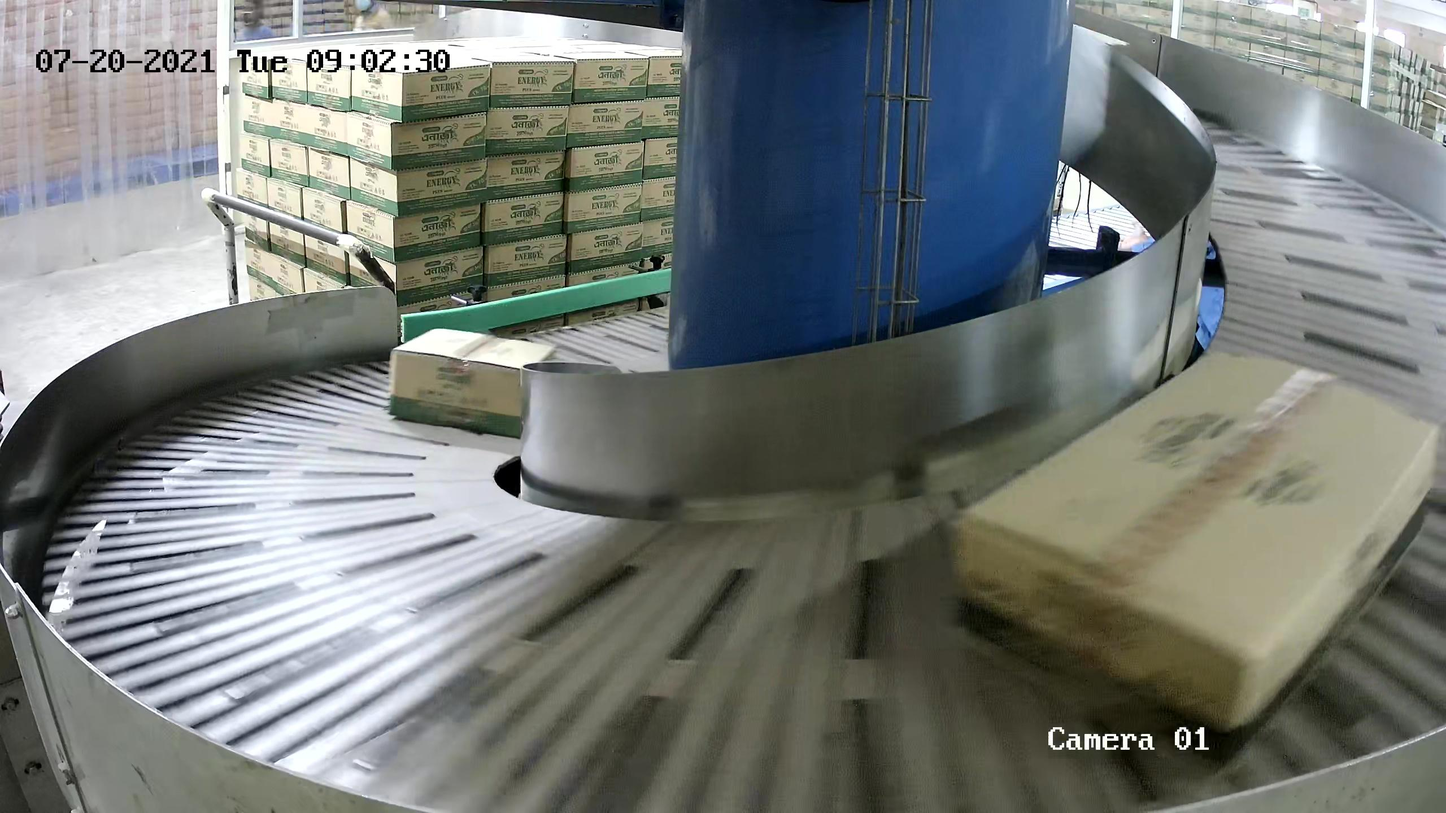Box: (948, 349, 1437, 775), (388, 327, 556, 439)
